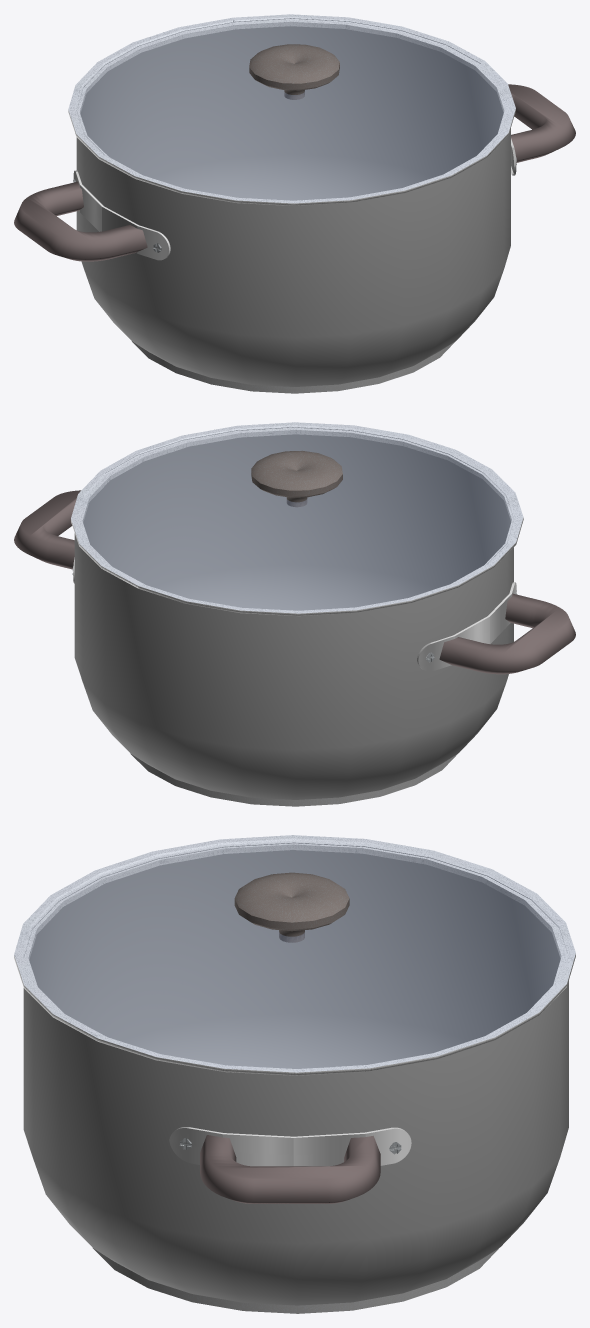
Rendered from pot.fbx.
3 views of the same model, one above another, from view 1: azimuth 30°, elevation 25°; view 2: azimuth 150°, elevation 25°; view 3: azimuth 270°, elevation 25° (orthographic). The views are drawn at different scales.
Parts seen in each view (by area): view 1: group_6; view 2: group_6; view 3: group_6.
Boxes of the visible parts, <box> form: group_6: <box>14,14,575,393</box>; group_6: <box>14,422,575,806</box>; group_6: <box>14,835,575,1313</box>.
Size of the model in its own units: 24.84 by 12.1 by 18.49.
13 materials, 4 textured.
